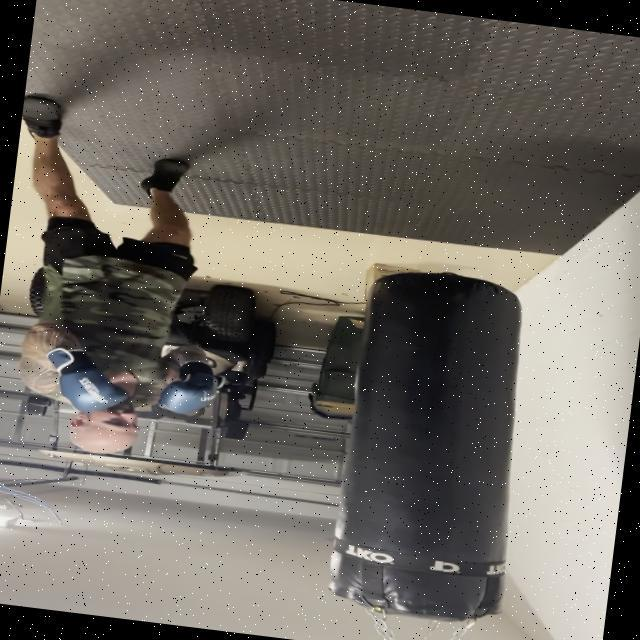bag: (324, 258, 534, 624)
no punch: (14, 320, 232, 469)
